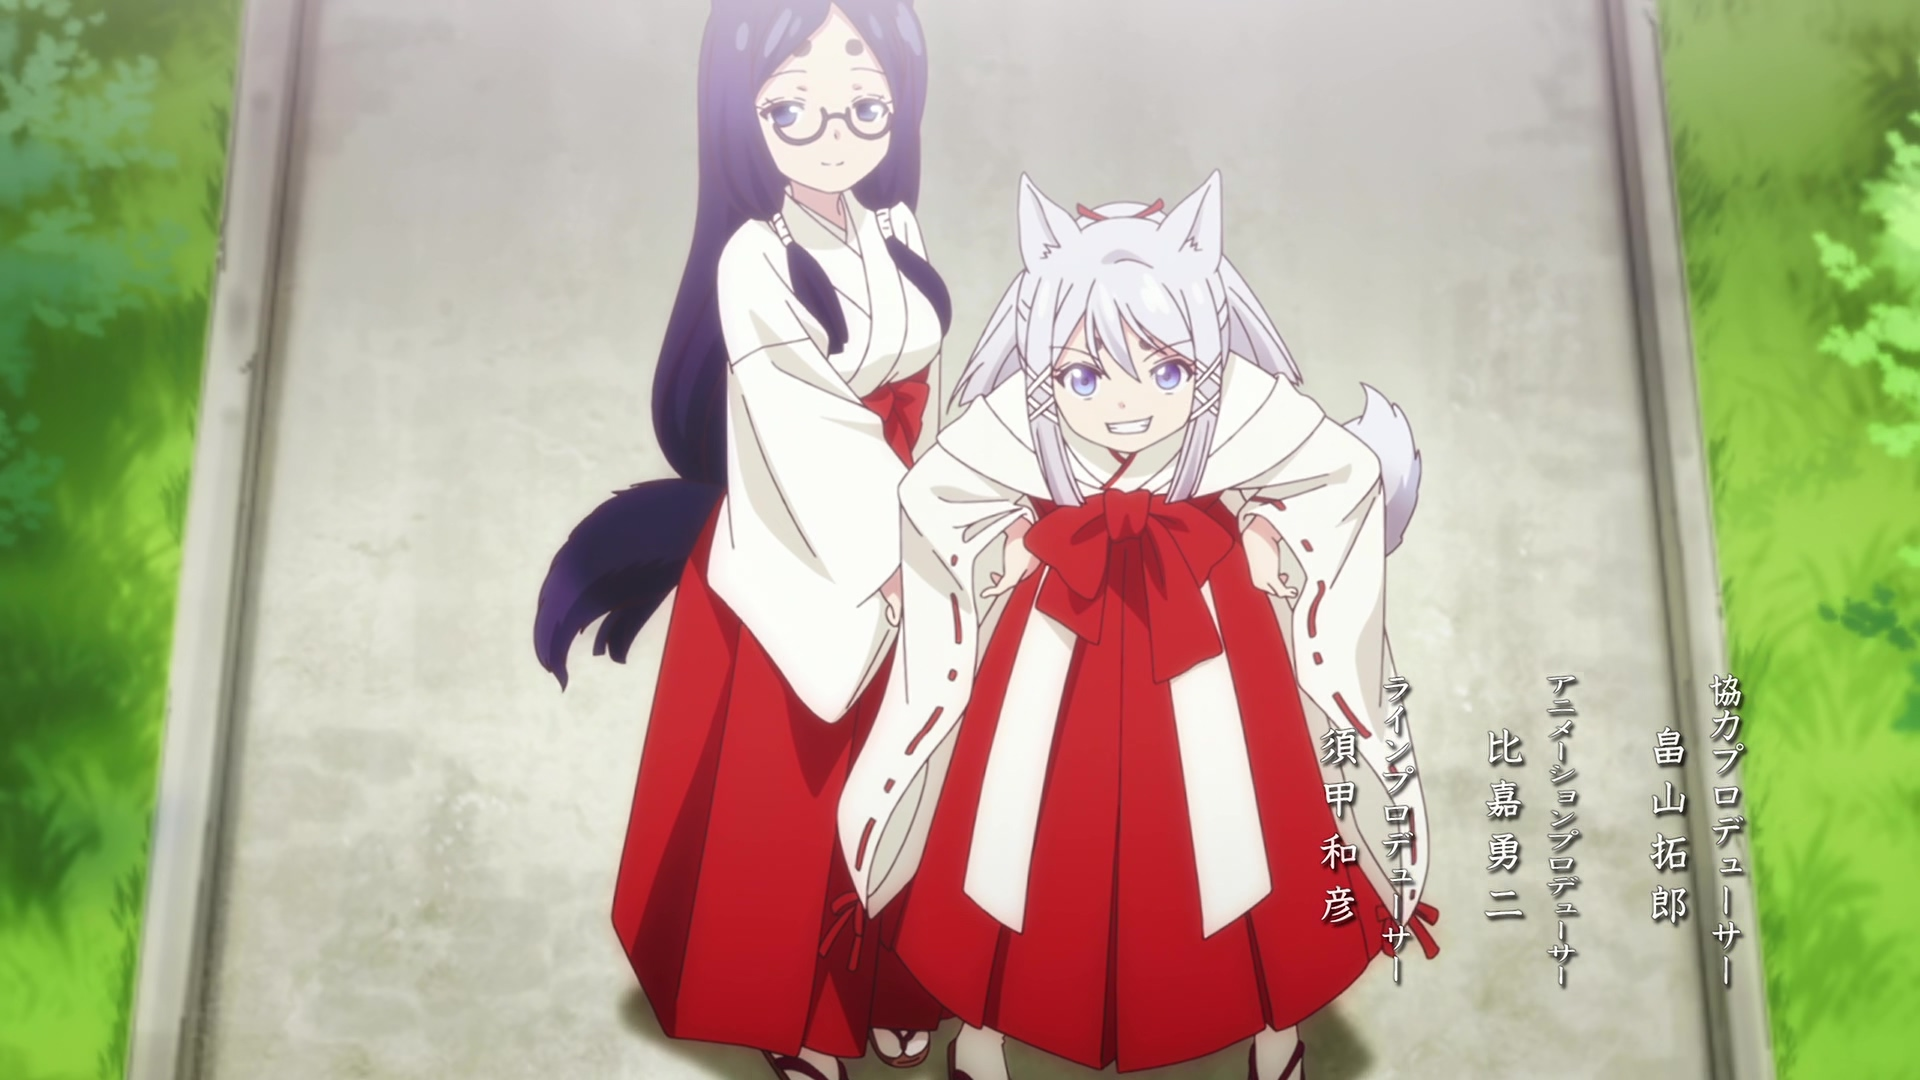柊: (837, 169, 1425, 1080)
菖: (531, 5, 953, 1080)
